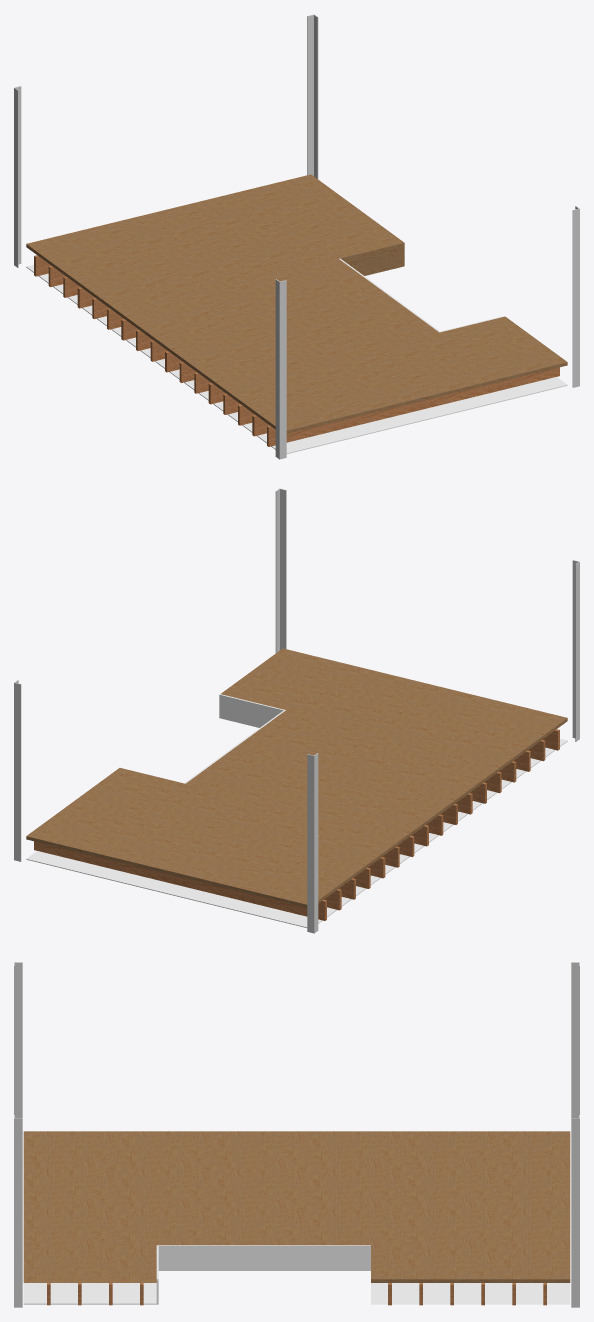
Rendered from 2storey_16x24_FFBlock.glb.
3 renders of one model, top to bottom at view 1: azimuth 30°, elevation 25°; view 2: azimuth 150°, elevation 25°; view 3: azimuth 270°, elevation 25°, orthographic. The views are drawn at different scales.
Visible parts, largest first — view 1: FF_floorfinish, Vertical_Trim_2.001, FF_framing, GF_Ceiling, FF- Floor Finish; view 2: FF_floorfinish, Vertical_Trim_2.001, FF_framing, GF_Ceiling, FF- interior wall; view 3: FF_floorfinish, GF_Ceiling, Vertical_Trim_2.001, FF- interior wall, FF_framing.
Part boxes in pixels (x1=…): FF_floorfinish: x1=26, y1=174, x2=567, y2=433; Vertical_Trim_2.001: x1=14, y1=14, x2=579, y2=459; FF_framing: x1=34, y1=255, x2=559, y2=446; GF_Ceiling: x1=26, y1=264, x2=567, y2=453; FF- Floor Finish: x1=341, y1=243, x2=404, y2=275; FF_floorfinish: x1=26, y1=648, x2=567, y2=907; Vertical_Trim_2.001: x1=14, y1=488, x2=579, y2=933; FF_framing: x1=34, y1=729, x2=559, y2=920; GF_Ceiling: x1=26, y1=738, x2=567, y2=927; FF- interior wall: x1=184, y1=694, x2=285, y2=783; FF_floorfinish: x1=23, y1=1131, x2=570, y2=1282; GF_Ceiling: x1=23, y1=1283, x2=570, y2=1304; Vertical_Trim_2.001: x1=14, y1=962, x2=579, y2=1307; FF- interior wall: x1=156, y1=1245, x2=370, y2=1304; FF_framing: x1=47, y1=1283, x2=546, y2=1305.
Size of the model in its own units: 4.93 by 2.79 by 7.54.
Materials: 6 (3 with a texture image).
